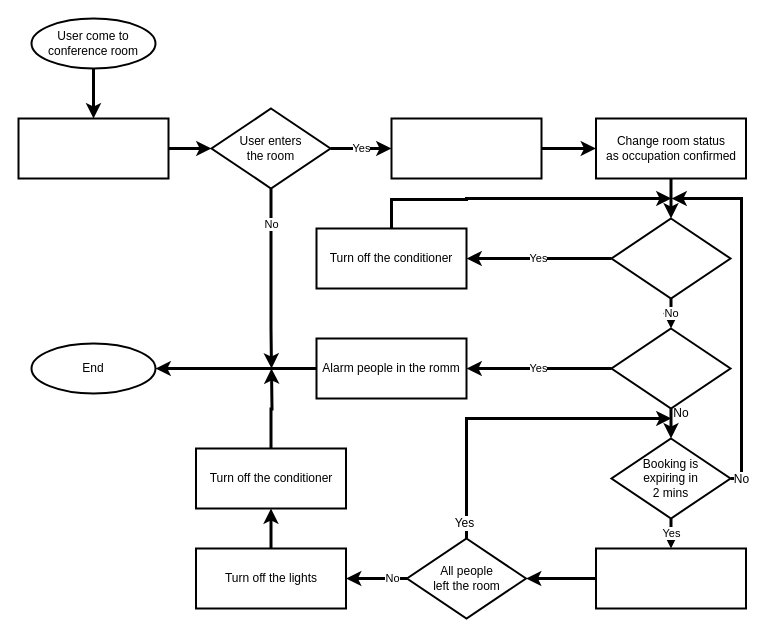
The diagram is 768 pixels wide and 636 high, and some of its shapes have lost their labels. Each missing label, with the centre of its shape:
"Inform people in the room, that booking is expiring in 2 mins" belongs at (x=670, y=578).
"Level of CO2 is high" belongs at (x=670, y=368).
"Showing room occupation status on display" belongs at (x=93, y=148).
"Switch light on" belongs at (x=466, y=148).
"Temperature is below min" belongs at (x=670, y=258).
